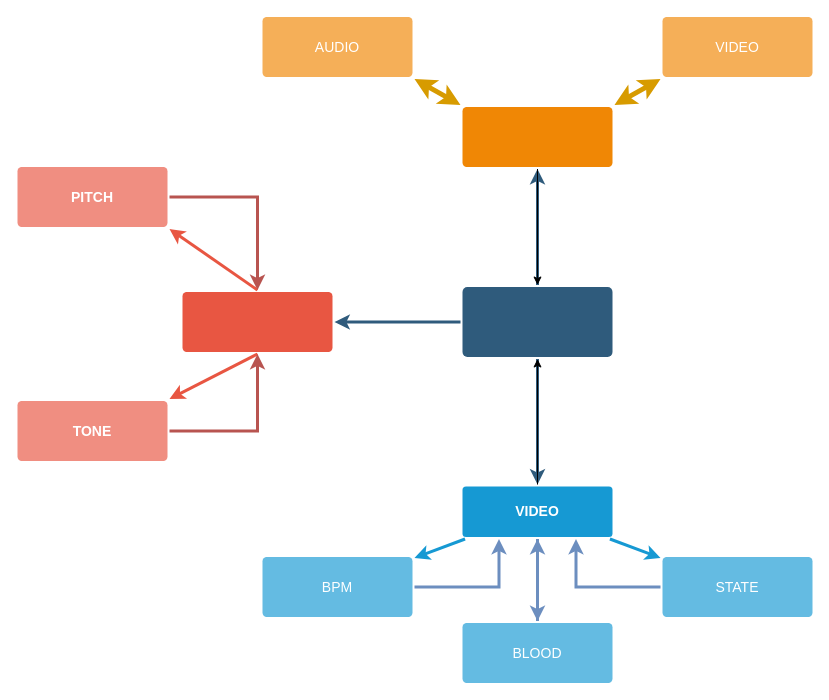
Some shapes in this 829 by 700 pixel diagram are drawn without their labels. Each missing label, with the box of its shape:
LLM: (462, 286, 612, 356)
USER: (462, 106, 612, 166)
Voice: (182, 292, 332, 352)
